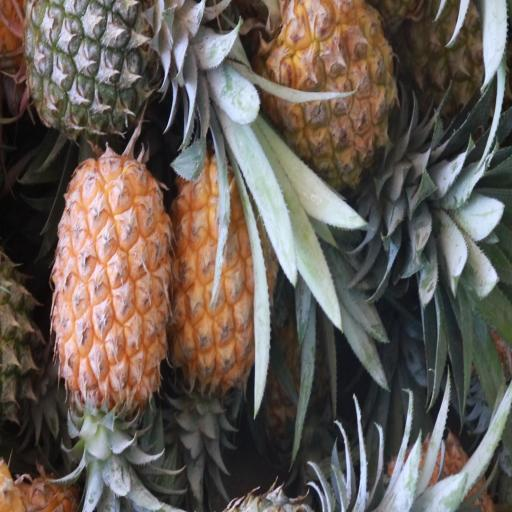------------------------------: (398, 0, 511, 135)
Pineapple - v8 v1: (56, 150, 170, 410), (265, 0, 396, 188), (173, 149, 277, 385)
